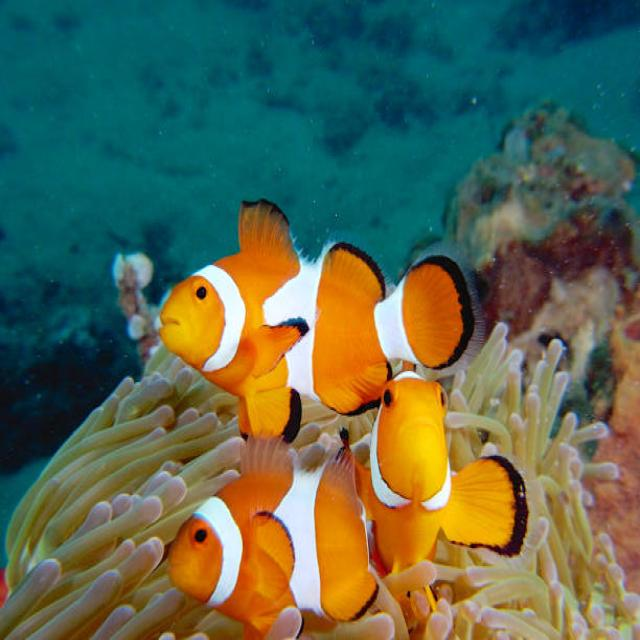ClownFish: (159, 201, 473, 434), (162, 458, 542, 614), (365, 363, 453, 567)
